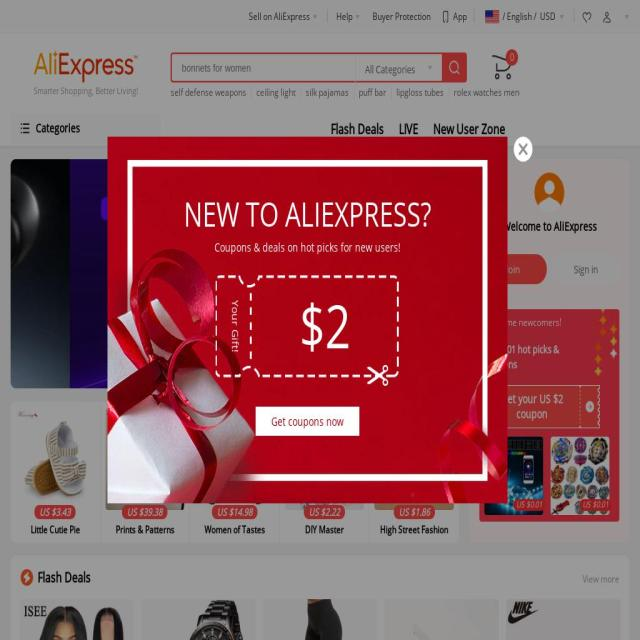button: (100, 402, 190, 542), (280, 402, 370, 542), (369, 402, 459, 542), (11, 402, 100, 542), (190, 402, 279, 542), (11, 50, 160, 113), (153, 437, 217, 515), (219, 437, 283, 515), (286, 437, 350, 515), (352, 437, 416, 515), (418, 437, 482, 515), (484, 437, 548, 515), (550, 437, 614, 515), (140, 599, 256, 640), (262, 599, 378, 640), (384, 599, 500, 640), (19, 599, 134, 640), (506, 599, 621, 640), (36, 112, 160, 145), (256, 406, 360, 436), (433, 112, 505, 146), (479, 254, 547, 284), (552, 254, 619, 284), (331, 112, 384, 146), (617, 437, 640, 515), (484, 316, 614, 328), (534, 172, 564, 212), (171, 86, 251, 99), (449, 86, 524, 99), (391, 86, 449, 99), (301, 86, 354, 99), (251, 86, 301, 99), (399, 112, 418, 146), (354, 86, 391, 99), (514, 136, 532, 162), (512, 9, 538, 24), (492, 58, 512, 74), (602, 9, 622, 23), (582, 9, 592, 23)
field: (182, 54, 355, 81), (442, 52, 467, 82)
heading: (108, 191, 508, 237), (38, 569, 90, 586)
image: (0, 0, 640, 640), (11, 160, 460, 388), (459, 160, 640, 388), (105, 408, 185, 514), (284, 408, 364, 514), (374, 408, 454, 514), (16, 408, 95, 514), (195, 408, 274, 514), (484, 385, 600, 428), (140, 599, 256, 640), (262, 599, 378, 640), (384, 599, 500, 640), (19, 599, 134, 640), (506, 599, 621, 640), (484, 437, 544, 515), (550, 437, 610, 515), (153, 437, 212, 515), (352, 437, 411, 515), (418, 437, 477, 515), (220, 437, 278, 515), (286, 437, 344, 515), (0, 160, 12, 388), (617, 437, 640, 515), (534, 172, 564, 212), (492, 53, 512, 80), (582, 10, 592, 24), (602, 10, 612, 24), (344, 372, 350, 380)
link: (502, 218, 597, 234), (444, 9, 502, 23)
text: (241, 275, 397, 358), (108, 241, 508, 254), (484, 385, 580, 428), (34, 50, 138, 83), (484, 342, 576, 372), (11, 86, 160, 98), (36, 112, 80, 145), (105, 519, 185, 536), (284, 519, 364, 536), (374, 519, 454, 536), (16, 519, 95, 536), (195, 519, 274, 536), (228, 275, 241, 377), (365, 54, 421, 76), (401, 0, 439, 32), (582, 569, 620, 589), (122, 505, 168, 519), (212, 505, 258, 519), (34, 505, 76, 519), (304, 505, 346, 519), (393, 505, 435, 519), (248, 499, 281, 511), (314, 499, 347, 511), (513, 499, 546, 511), (579, 499, 612, 511), (182, 499, 214, 511), (381, 499, 413, 511), (447, 499, 479, 511), (506, 49, 518, 66)
